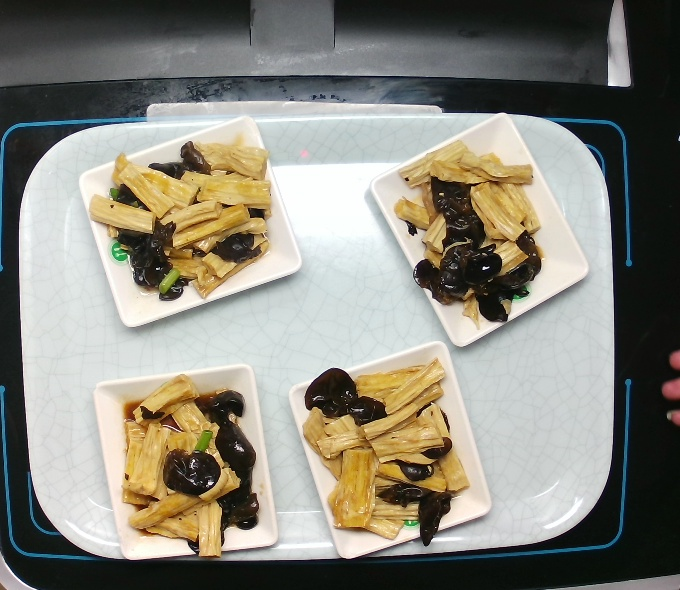wcq-MuErFuZhu: (76, 137, 297, 312), (291, 357, 476, 548), (393, 141, 549, 335), (122, 378, 265, 557)
